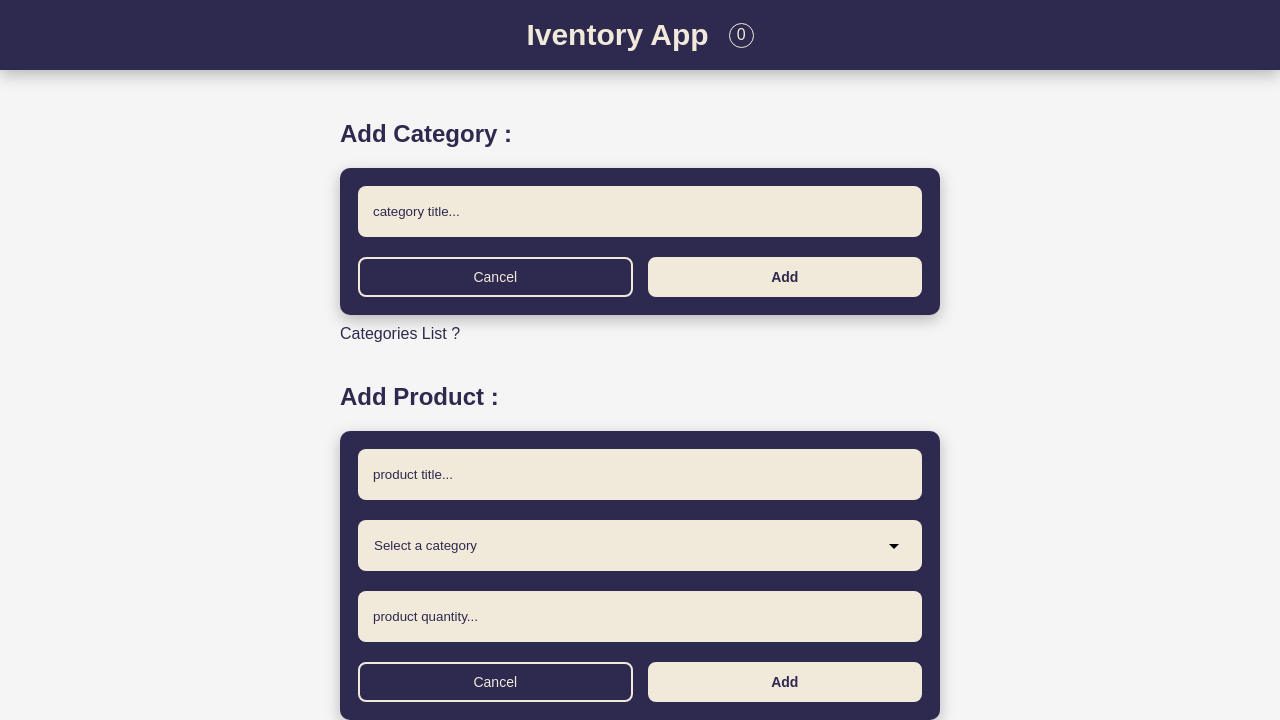
it: Add And Remove Category › Should Add Category
This screenshot has width=1280, height=720.
In the field with placeholder "category title...": (640, 212) [358, 186, 922, 237], type "test"
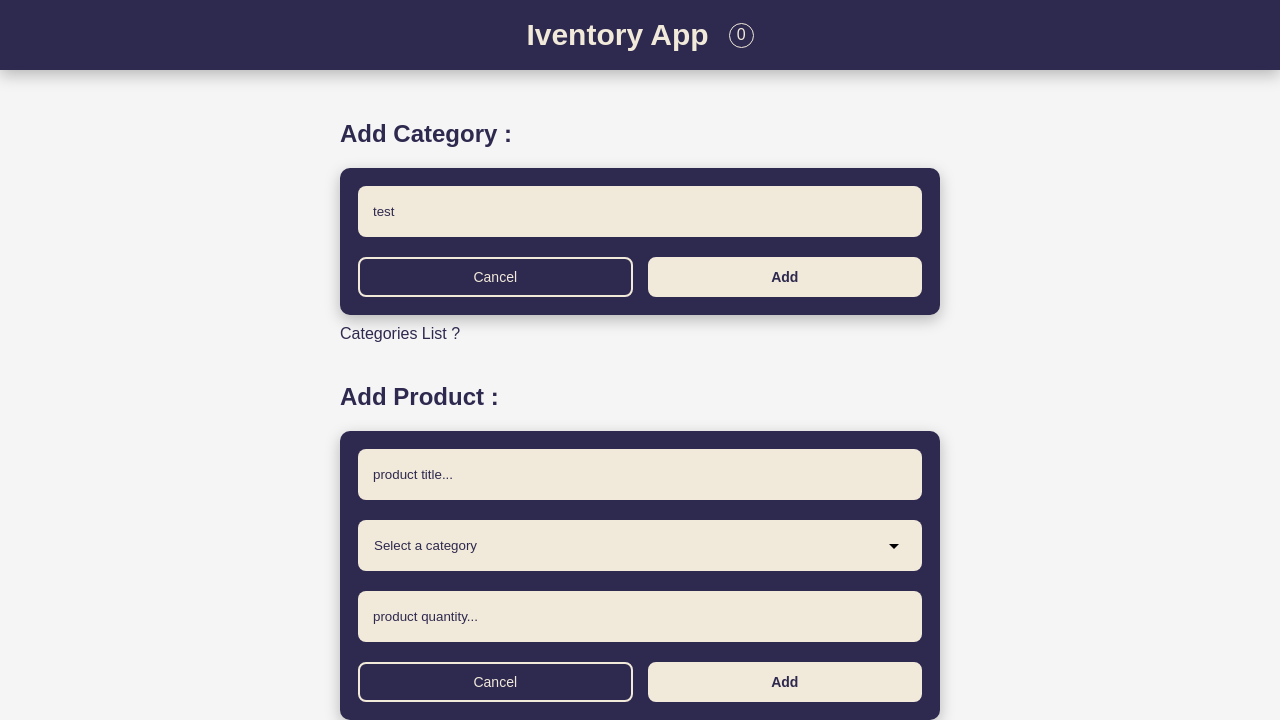
Click the button with test id "category-btn": (785, 277) [648, 257, 922, 297]
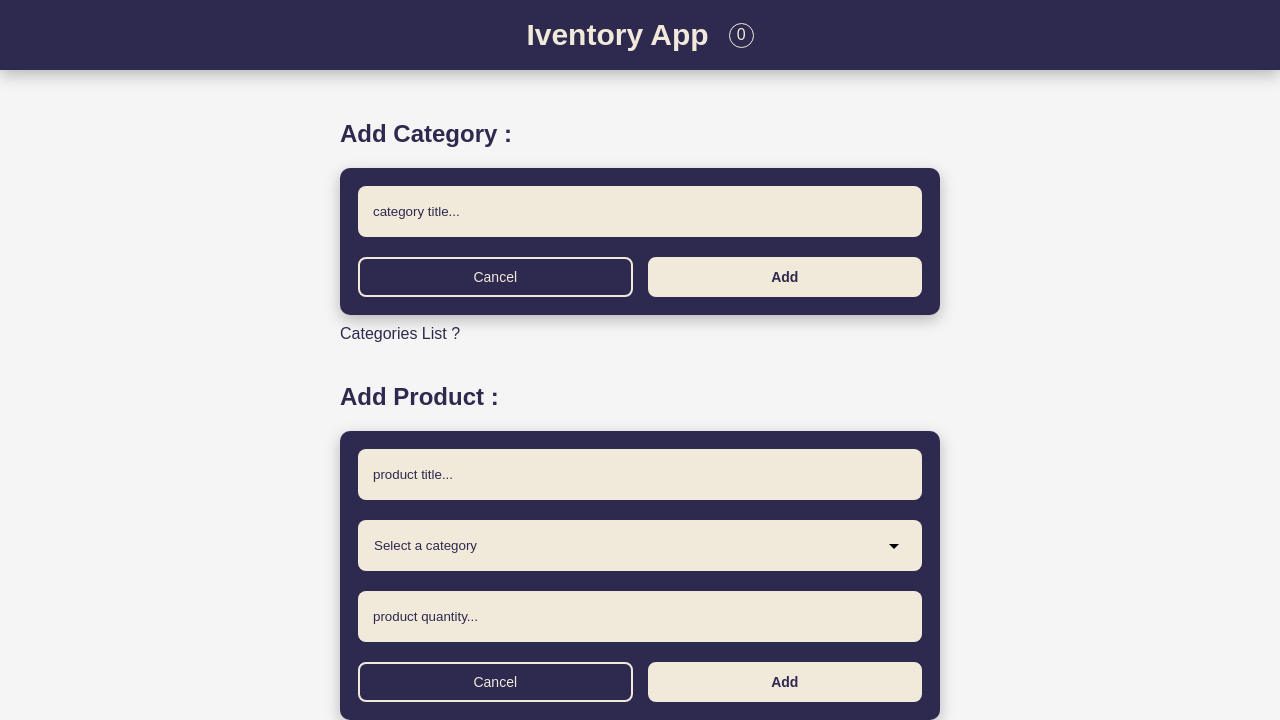
Click the text "Categories List ?": (400, 334) [340, 325, 460, 343]
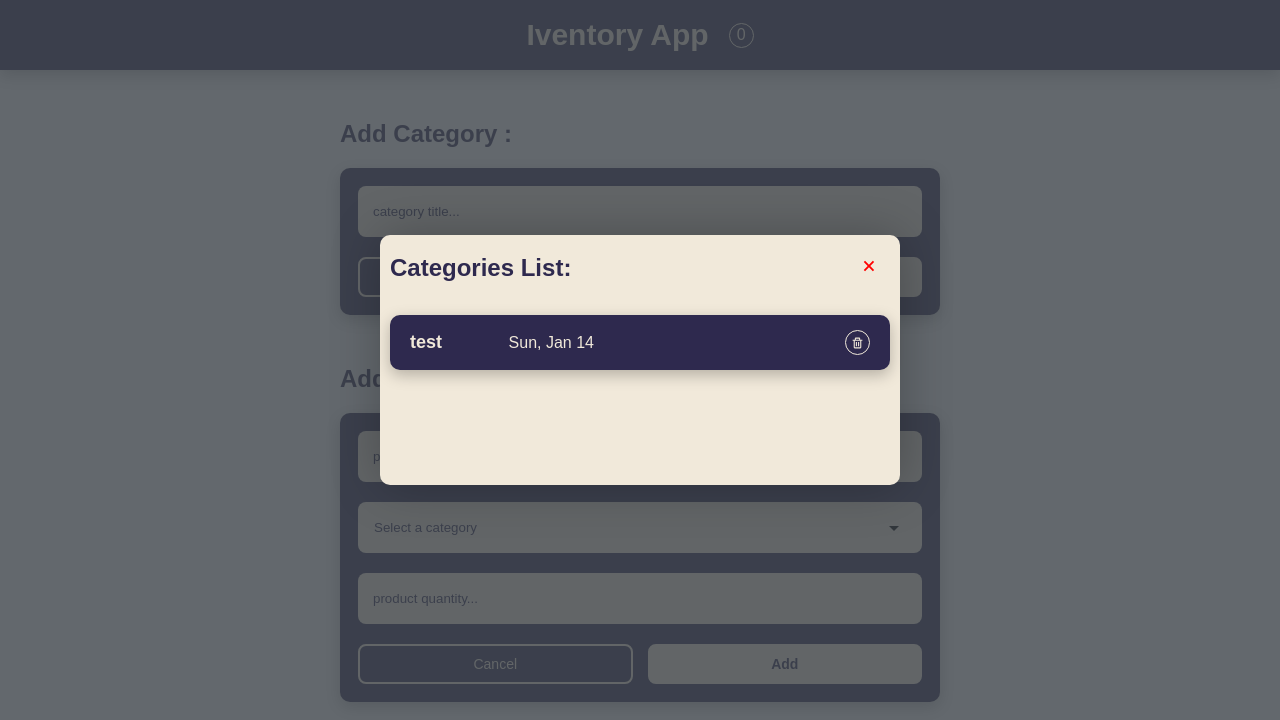
Check: the element with test id "category-item" is shown, box [390, 315, 890, 370]
